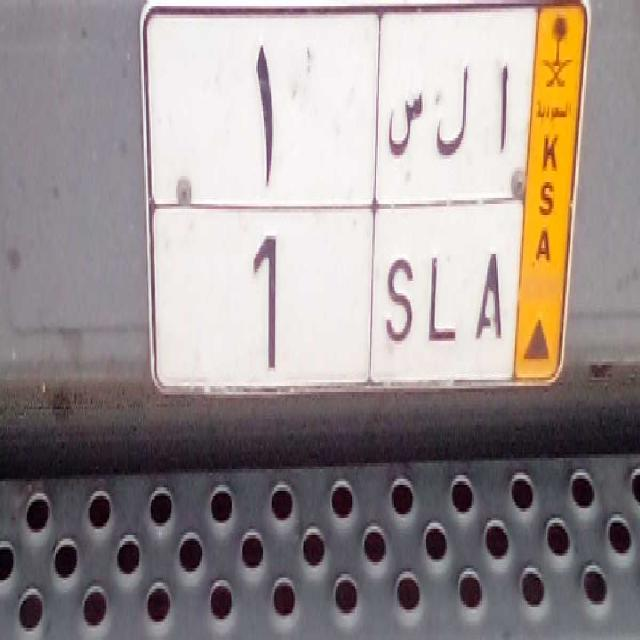license_plate: (144, 193, 523, 395)
